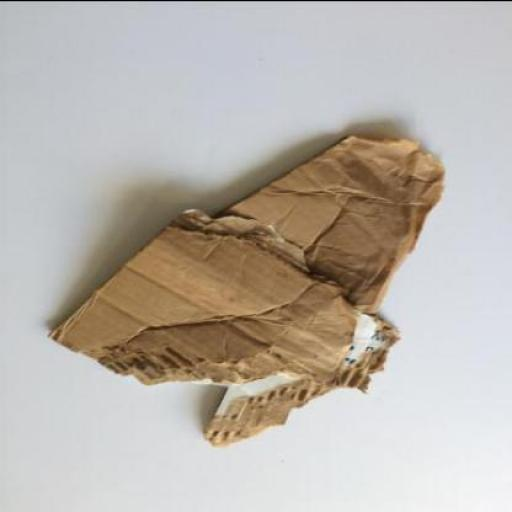cardboard: (49, 134, 448, 447), (50, 210, 360, 388), (212, 136, 446, 314)
